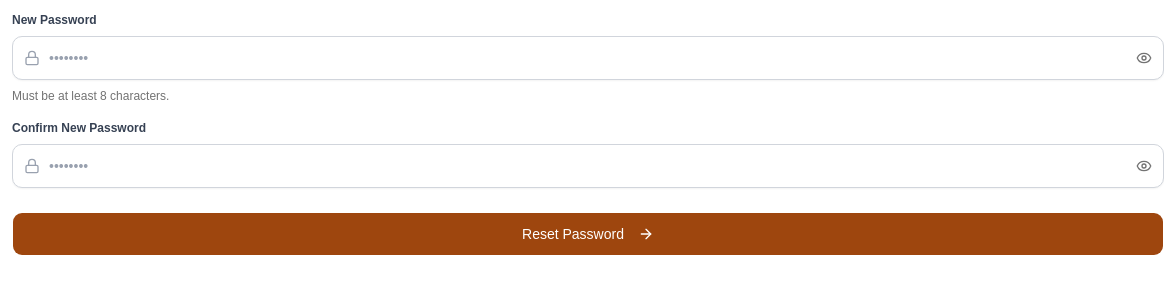
Test: StaffResetPasswordForm › shows error when passwords do not match
This screenshot has width=1176, height=296.
Step 1. Type "ValidPass123!" into the password field labelled "New Password" → {"x": 588, "y": 58}, box [12,36,1164,80]
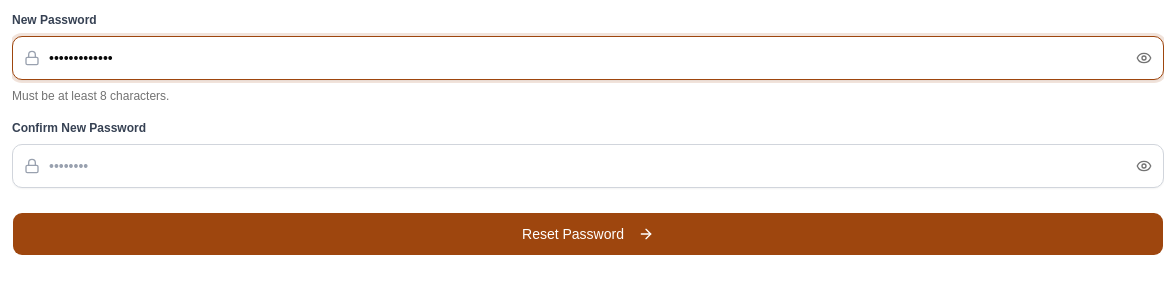
Step 2. Type "DifferentPass123!" into the password field labelled "Confirm New Password" → {"x": 588, "y": 166}, box [12,144,1164,188]
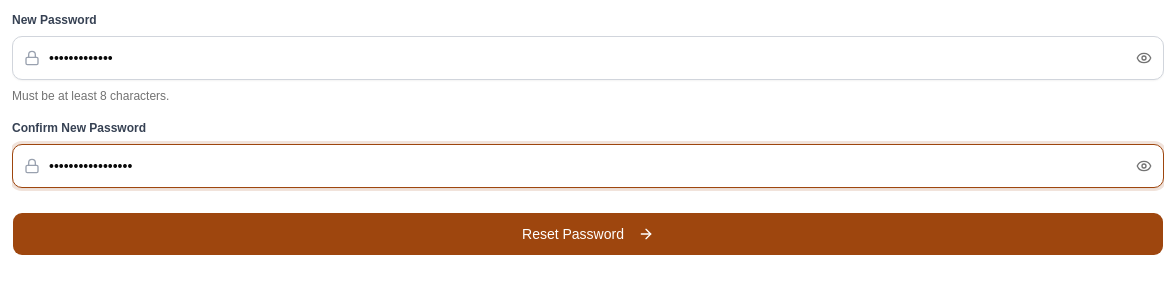
Step 3. Click the button "Reset Password" → {"x": 588, "y": 234}, box [12,212,1164,256]
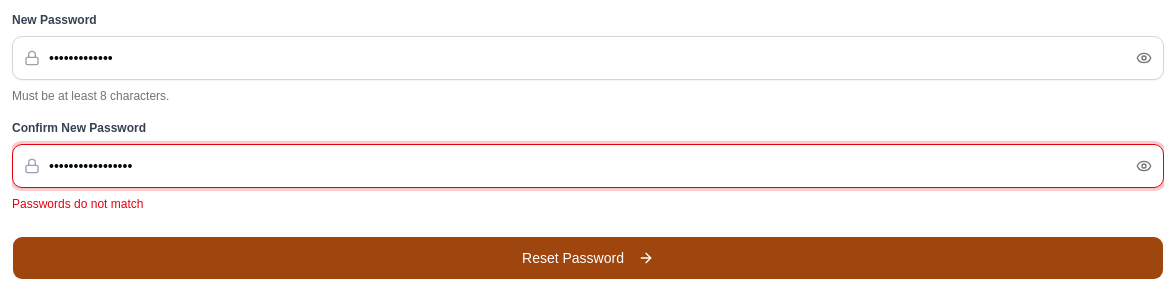
Now the text "Passwords do not match" is shown, box [12,197,143,211]
